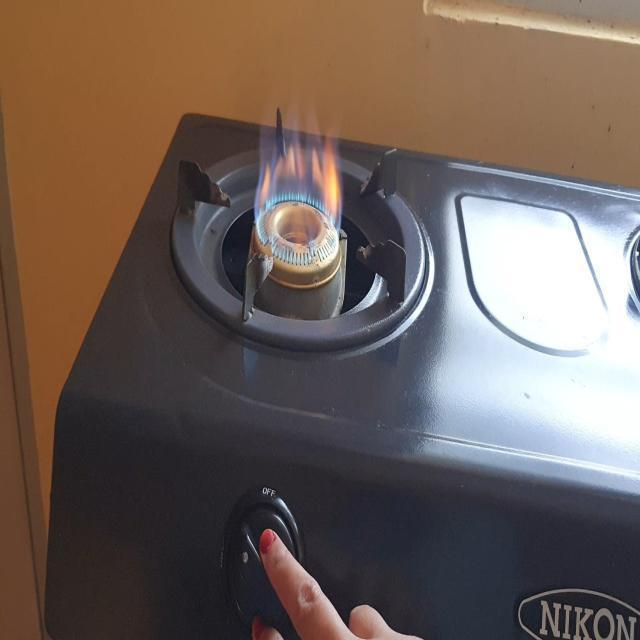smoke: (250, 98, 348, 296)
